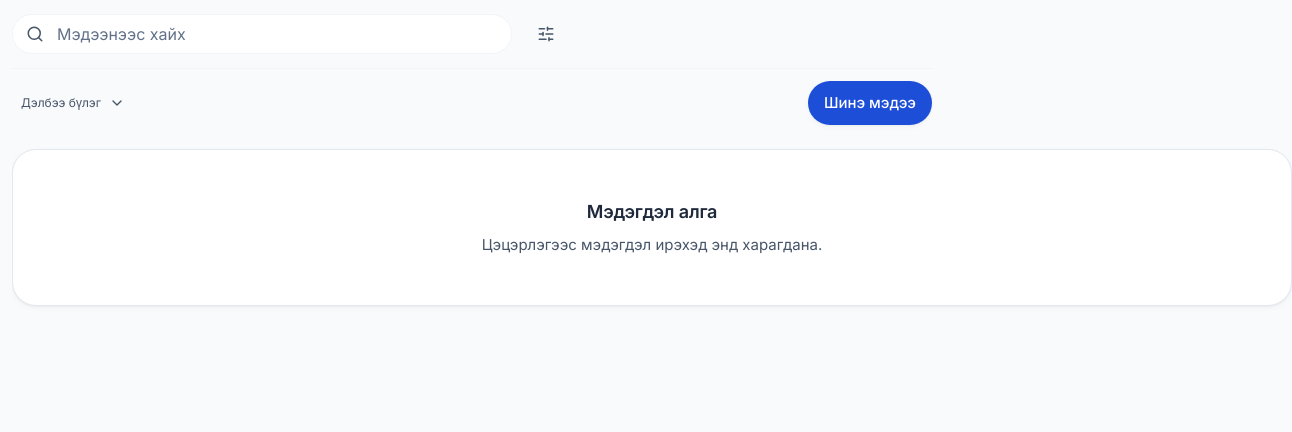
it: the news filter button › closes again when the icon is pressed a second time
Click the button named "Шүүлтүүр" at (546, 34), box [524,12,568,56]
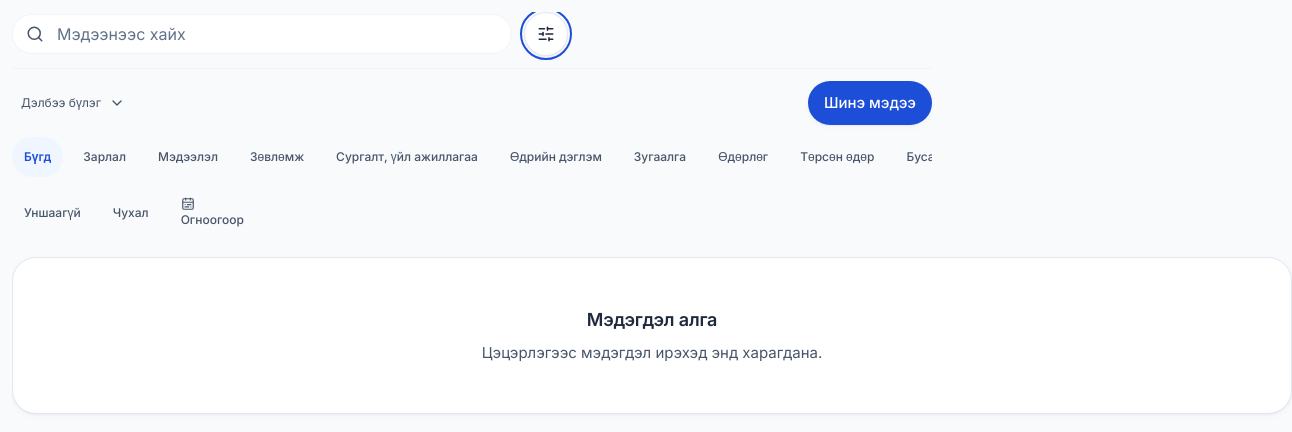
Expected: the button "Зөвлөмж" is shown, [238,137,316,177]
Click the button named "Шүүлтүүр" at (546, 34), box [524,12,568,56]
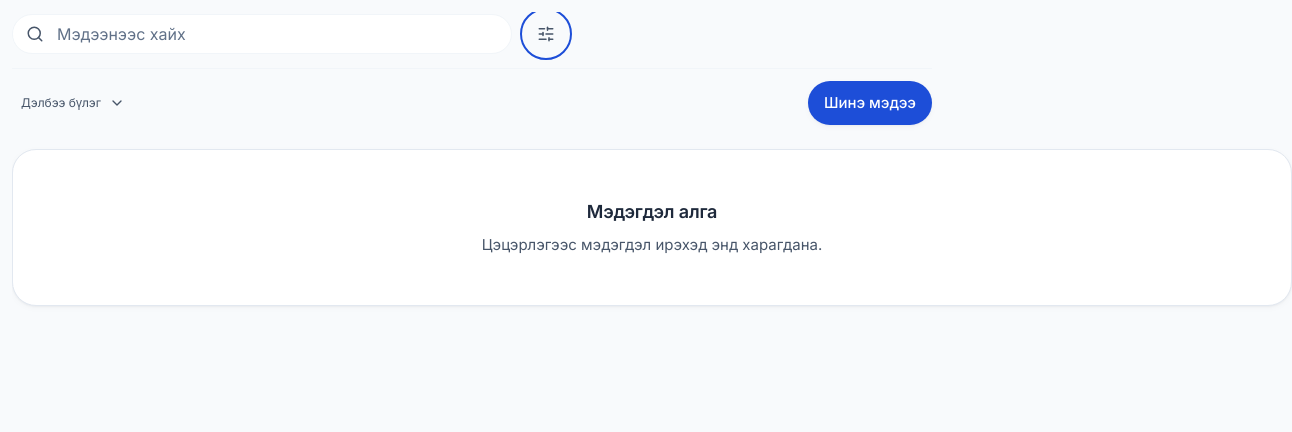
Expected: the button "Зөвлөмж" is gone
